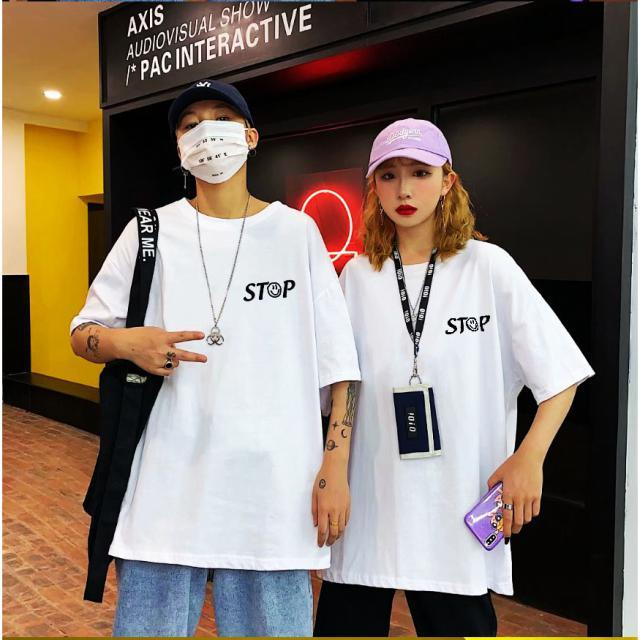Shirt: (65, 190, 363, 576), (319, 237, 600, 598)
